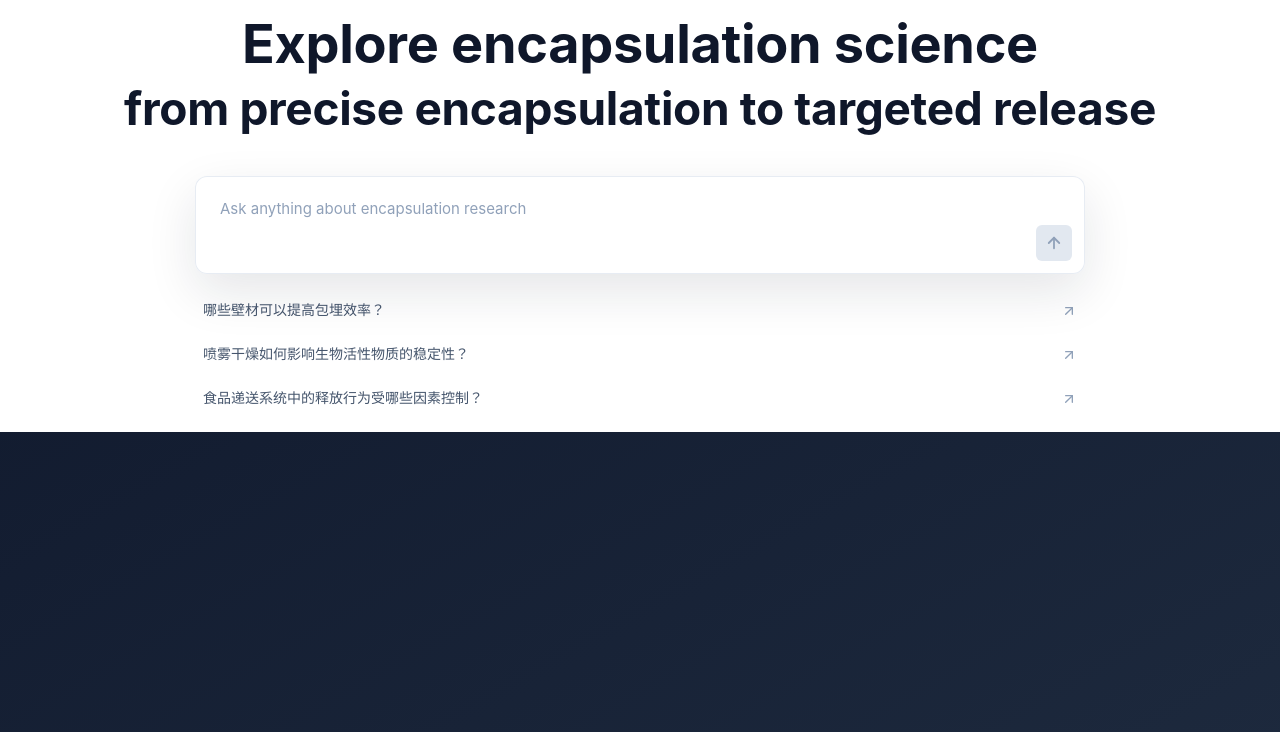
Test: Encapsulation welcome experience › uses a short fade before revealing the conversation
In the text box named "Encapsulation question": (640, 225) [196,177,1084,273], type "How does spray drying affect stability?"
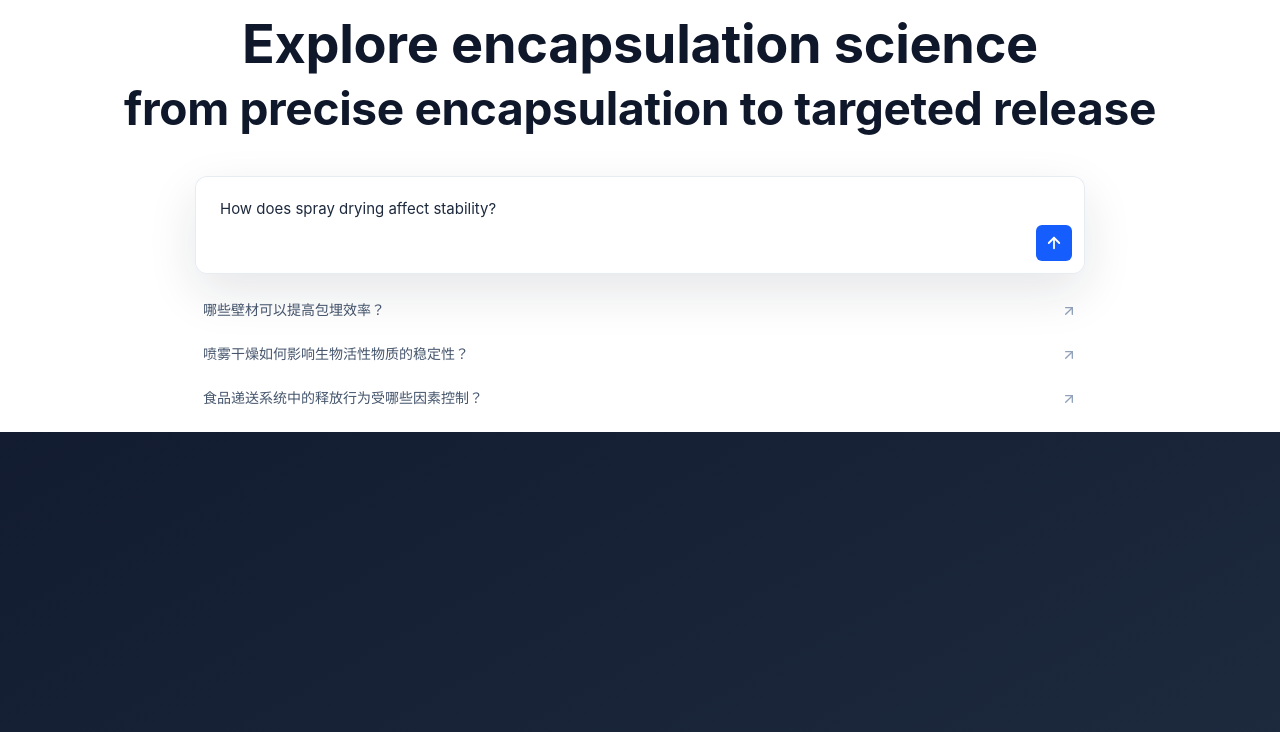
Click the button named "Send question": (1054, 243) [1036,225,1072,261]
Wait 400 ms
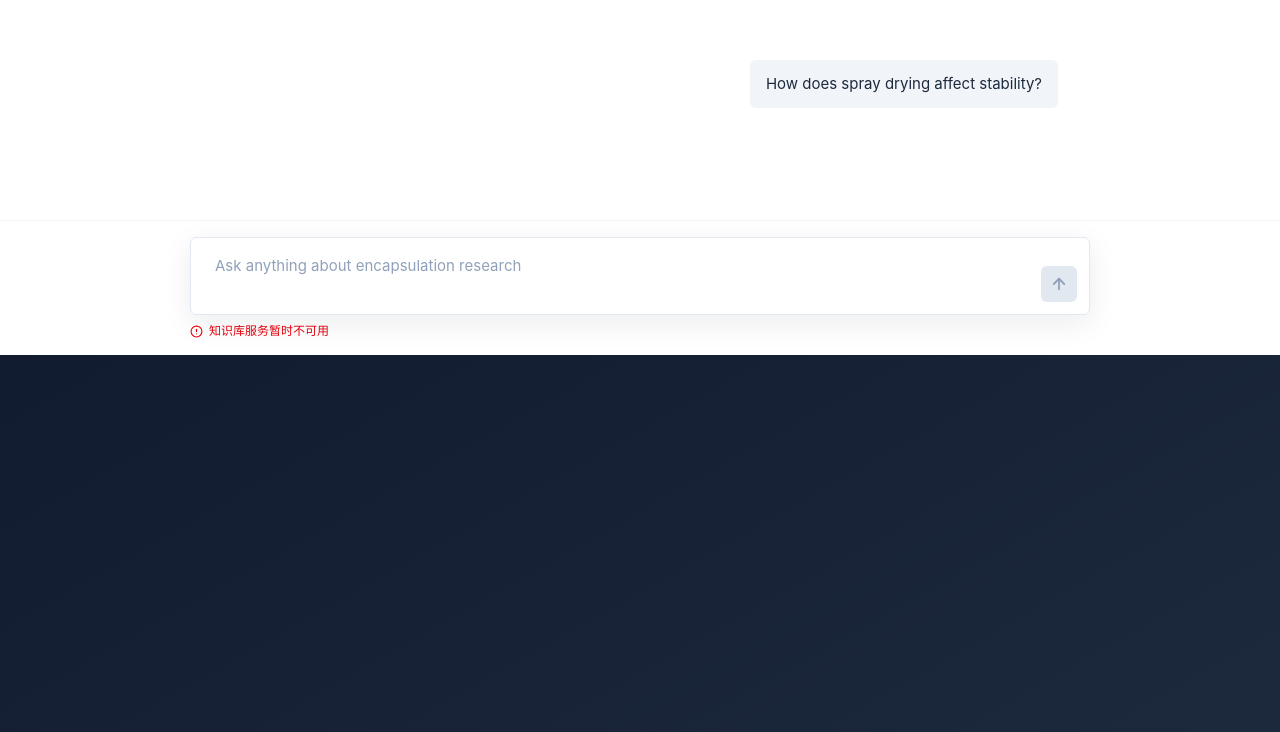
Expected: the text "How does spray drying affect stability?" is shown, [750,60,1058,108]
